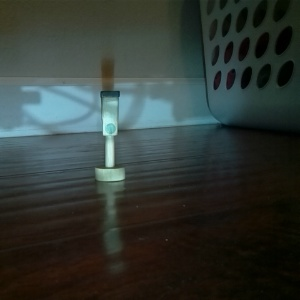traffic light green: (93, 87, 127, 183)
